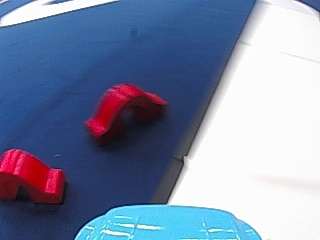bridge: (80, 77, 172, 149), (1, 144, 69, 209)
